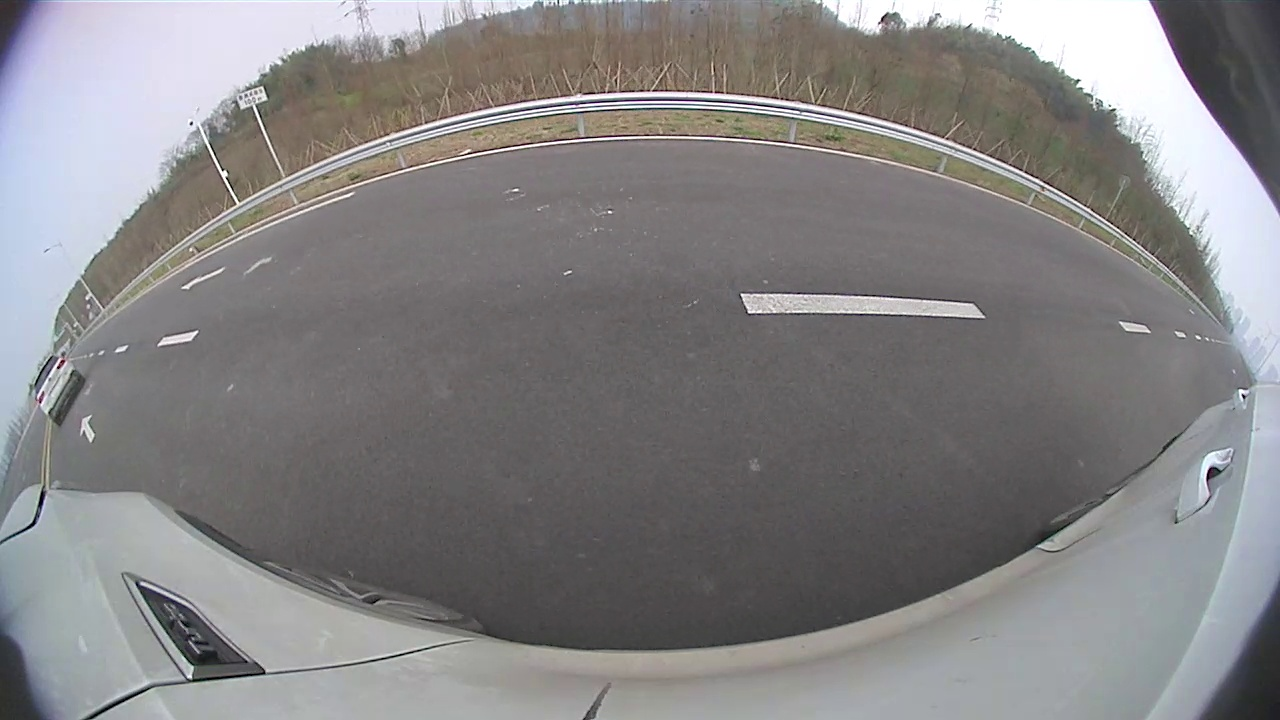car: (629, 133, 716, 206)
